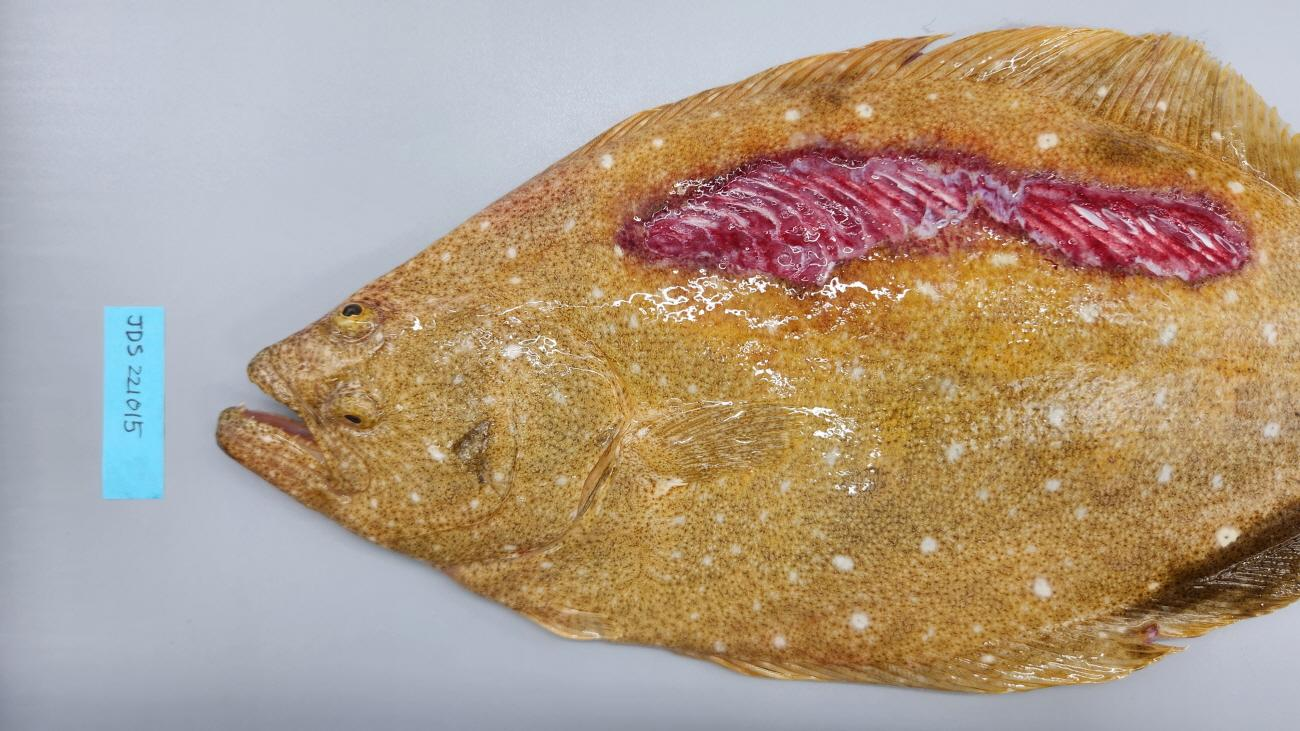VIDYU: (611, 134, 1263, 296)
